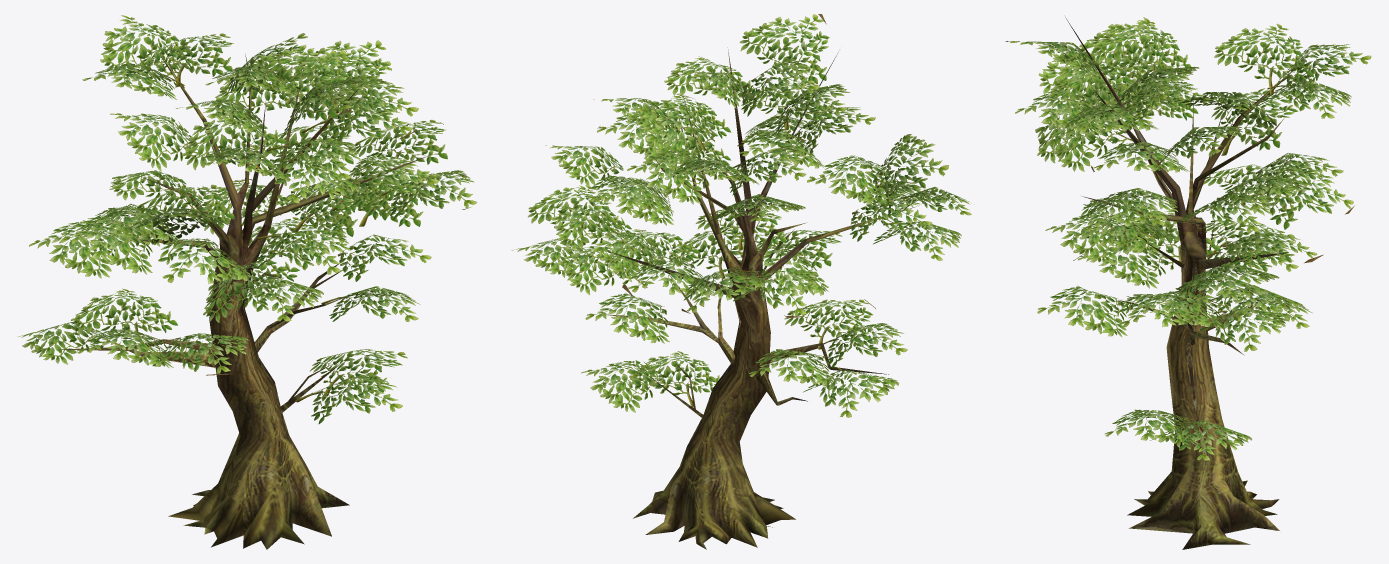
Rendered from SC_ZGFzhiwu01.FBX.
The picture shows the model from 3 angles, left to right: view 1: azimuth 30°, elevation 25°; view 2: azimuth 150°, elevation 25°; view 3: azimuth 270°, elevation 25°; orthographic projection. The views are drawn at different scales.
Visible parts, largest first — view 1: SC_ZGFzhiwu01; view 2: SC_ZGFzhiwu01; view 3: SC_ZGFzhiwu01.
Boxes of the visible parts, x1,y1,x2,y2 form: SC_ZGFzhiwu01: [18, 15, 476, 549]; SC_ZGFzhiwu01: [511, 14, 974, 549]; SC_ZGFzhiwu01: [1005, 17, 1371, 549].
Size of the model in its own units: 970 by 1001 by 717.
